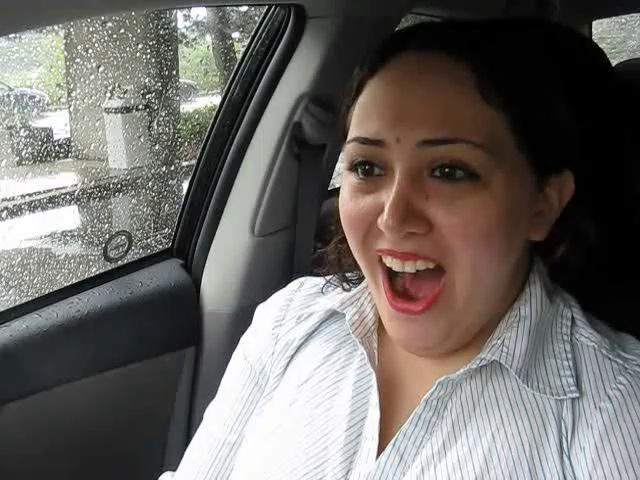open_eyeL: (336, 145, 402, 196)
open_eyeR: (409, 147, 501, 201)
yawn: (355, 242, 468, 324)
